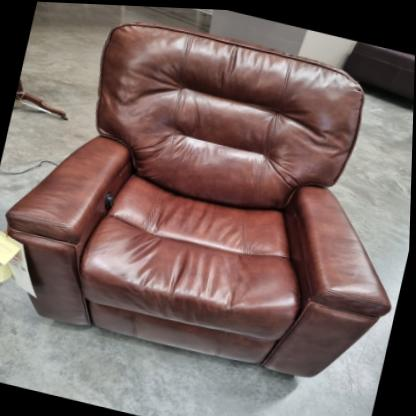Sofa: (0, 0, 416, 404)
